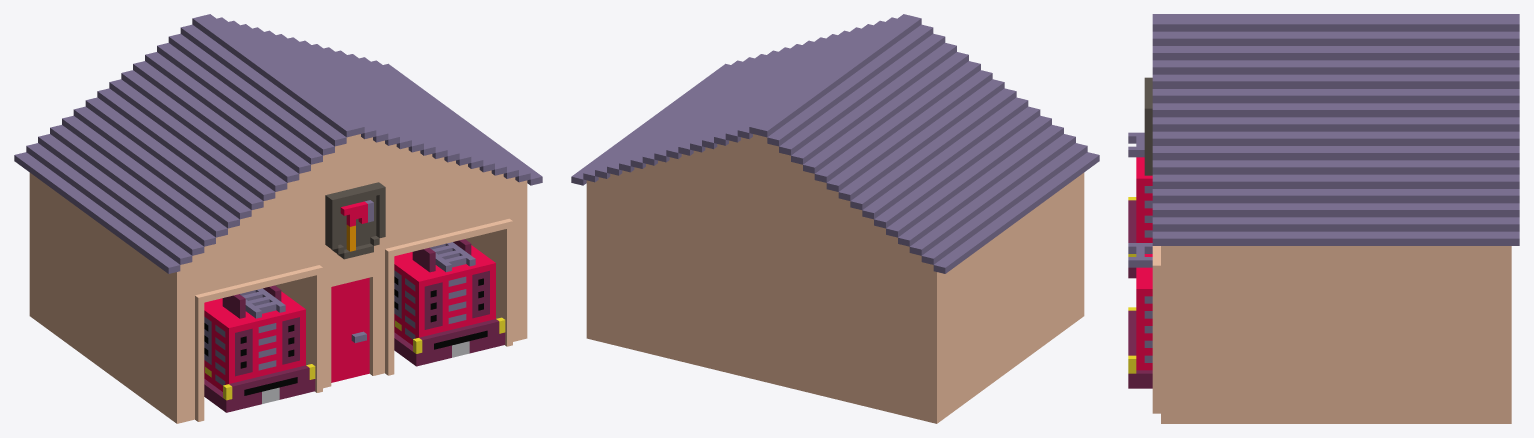
File: fire_department_b.obj
The picture shows the model from 3 angles, left to right: view 1: azimuth 30°, elevation 25°; view 2: azimuth 150°, elevation 25°; view 3: azimuth 270°, elevation 25°; orthographic projection. The views are drawn at different scales.
Bounding box in the file's own units: 6.3 × 4.1 × 4.8.
Materials: 1 (1 with a texture image).
